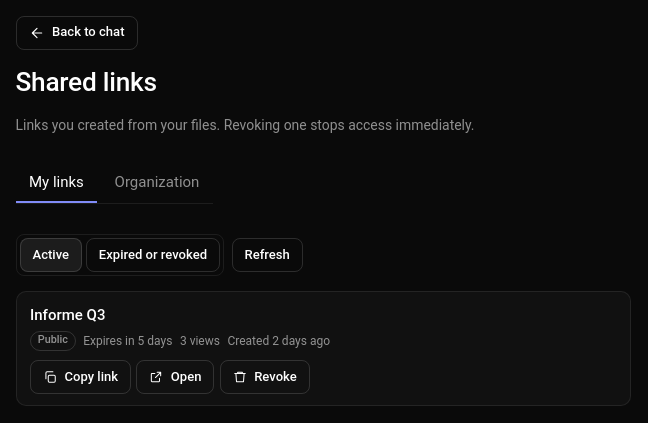
Test case: SharedLinksView › admins get the Organization tab with owners and admin revoke
Later steps or results of the test are not shown.
Click the tab "Organization". click: (157,184)
box: [101,165,213,204]
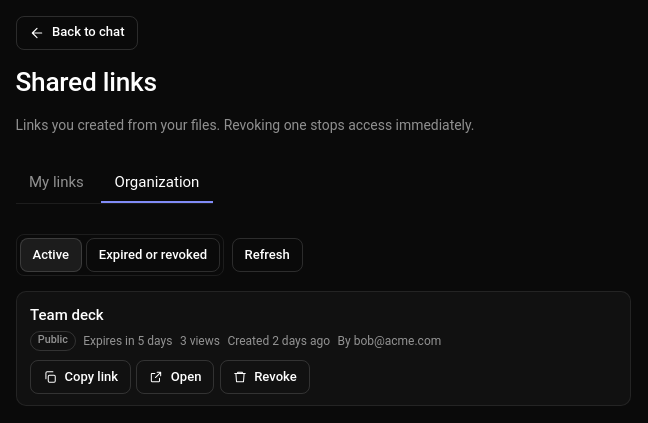
Expected: the list item with test id "link-row" shows "By bob@acme.com", [338,334,441,348]
